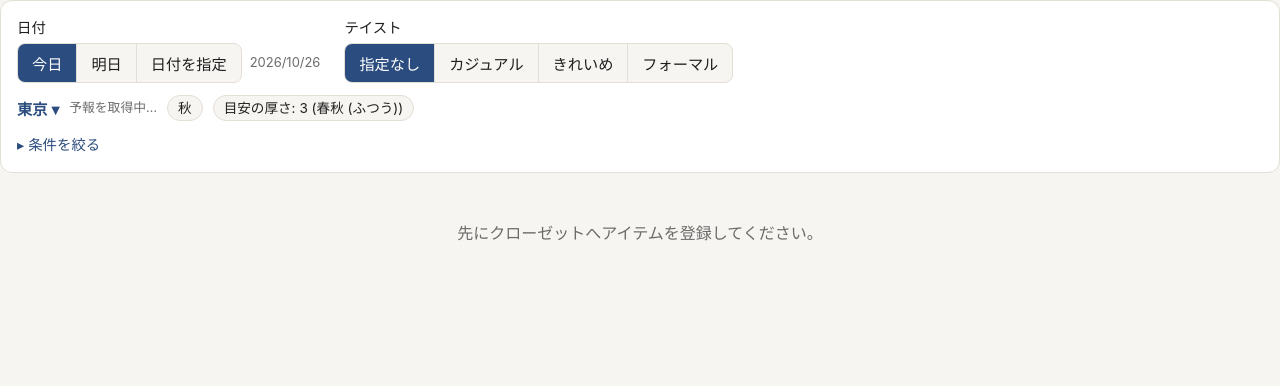
Test: SuggestView forecast › refetches with the new location when it changes and remembers the choice
Click the button "▸ 条件を絞る": (59, 144) [17,133,100,154]
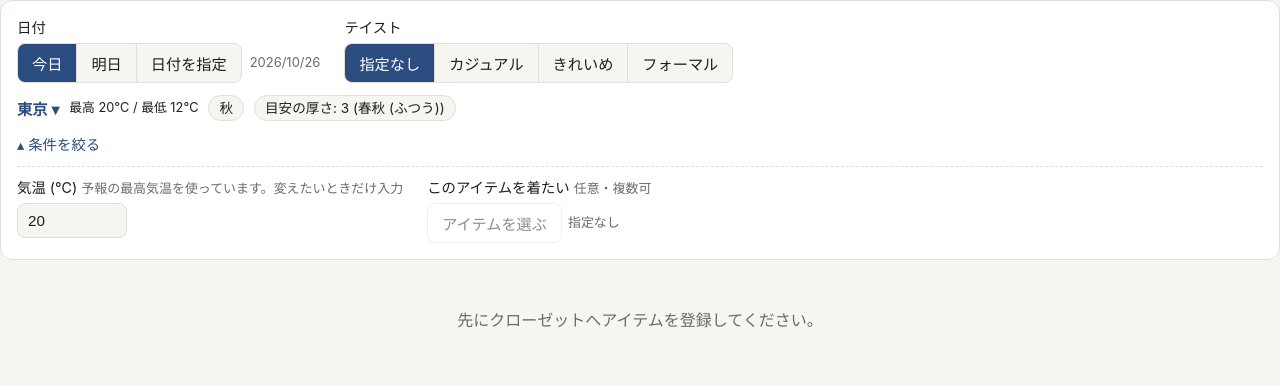
Expected: the number field with placeholder "例: 18" holds "20", [17,203,127,238]
Click the button with aria-label "地点を変える": (38, 108) [17,97,59,119]
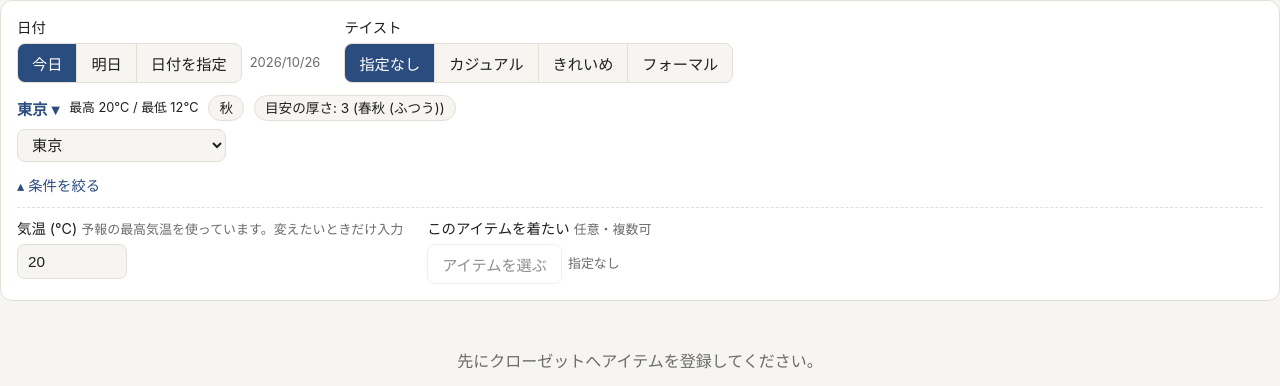
Select "大阪" in the dropdown named "予報の地点": (122, 146) [17,129,226,162]
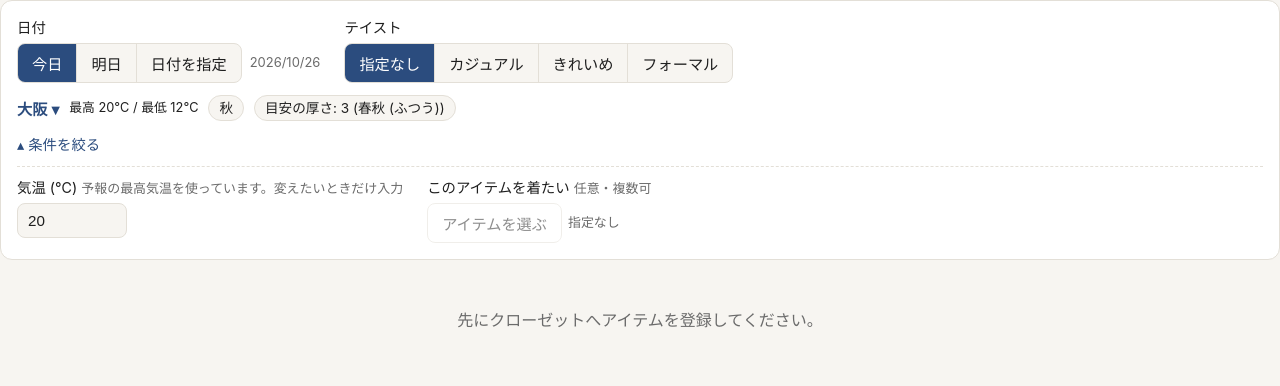
Expected: the text "最高 20℃ / 最低 12℃" is shown, [69,98,198,117]
Expected: the element with test id "cond-status" shows "大阪", [17,97,59,119]
